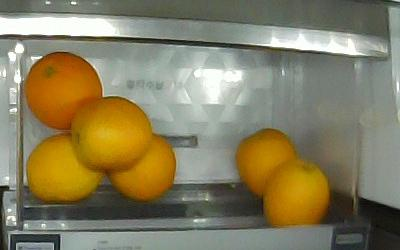orange: (26, 52, 102, 130), (72, 96, 151, 171), (27, 134, 101, 202), (106, 133, 175, 201), (262, 158, 328, 226), (235, 128, 296, 196)
